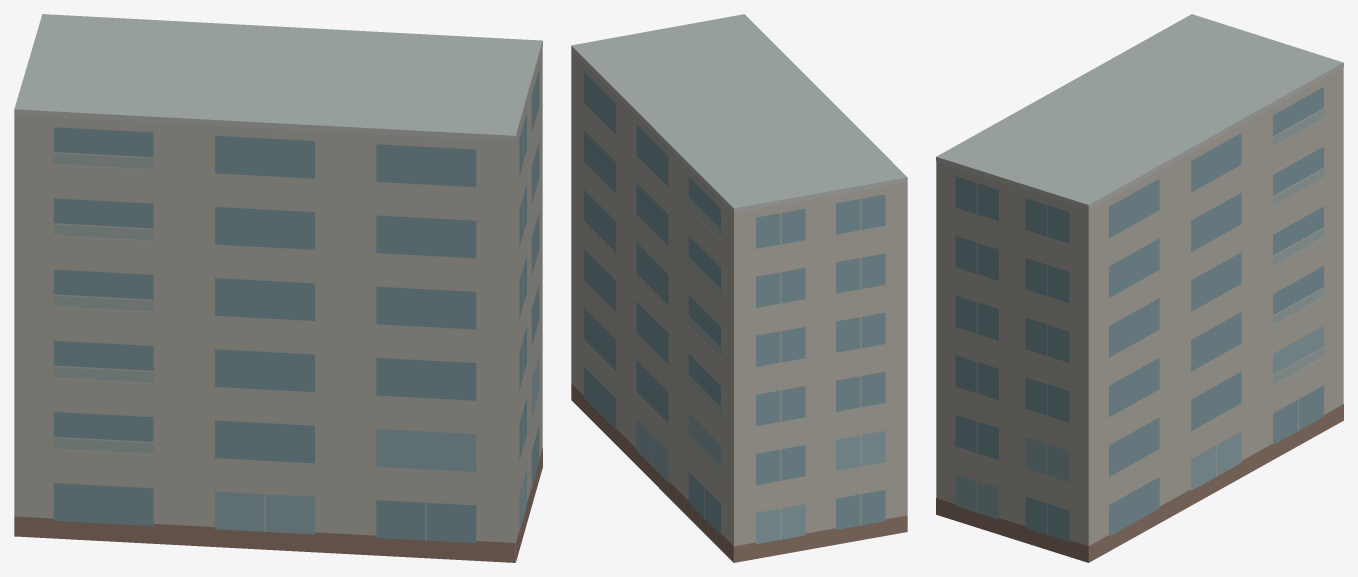
Rendered from survey-upis-32633187.glb.
3 views of the same model, side by side, from view 1: azimuth 30°, elevation 25°; view 2: azimuth 150°, elevation 25°; view 3: azimuth 270°, elevation 25° (orthographic). The views are drawn at different scales.
Parts seen in each view (by area): view 1: survey-upis-32633187.tmp; view 2: survey-upis-32633187.tmp; view 3: survey-upis-32633187.tmp.
Part boxes in pixels (left/top/right/bottom): survey-upis-32633187.tmp: left=14, top=14, right=542, bottom=562; survey-upis-32633187.tmp: left=571, top=14, right=907, bottom=562; survey-upis-32633187.tmp: left=936, top=14, right=1343, bottom=562.
Size of the model in its own units: 21.17 by 18.5 by 19.1.
